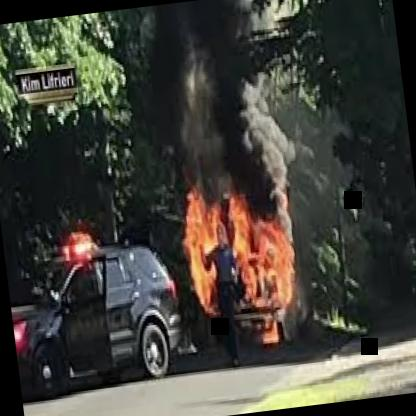fire: (171, 112, 305, 371)
